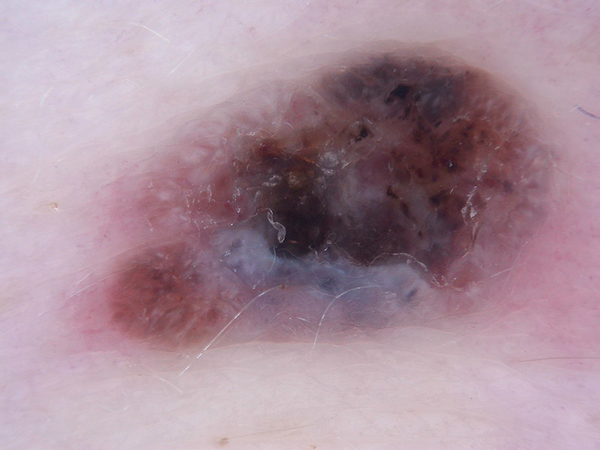Detected Lesion: (113, 47, 556, 361)
